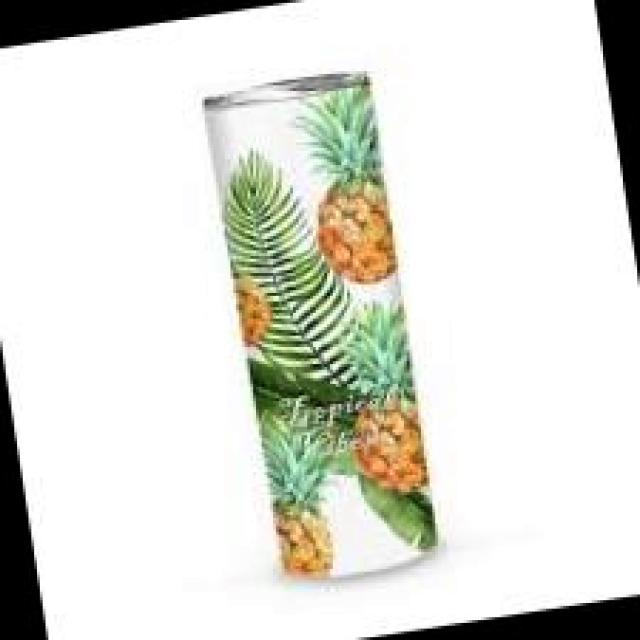bottle: (195, 62, 445, 588)
